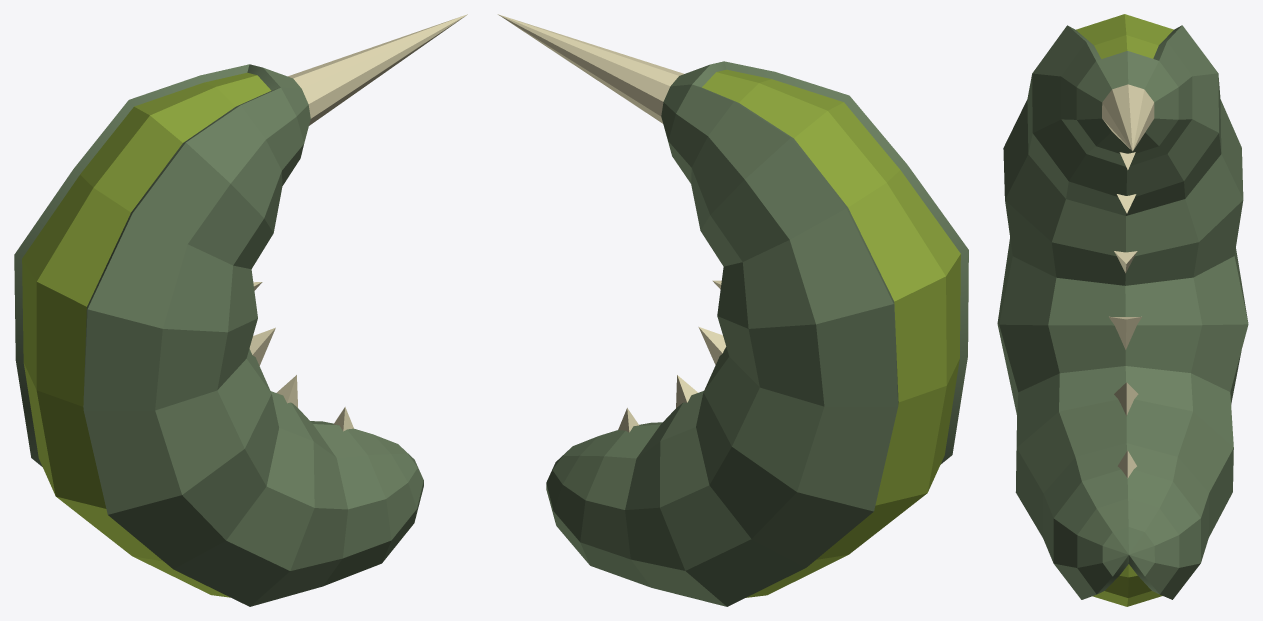
The model's file is LarvaeAbdomen.fbx.
The picture shows the model from 3 angles, left to right: view 1: azimuth 30°, elevation 25°; view 2: azimuth 150°, elevation 25°; view 3: azimuth 270°, elevation 25°; orthographic projection.
Parts seen in each view (by area): view 1: pCone55; view 2: pCone55; view 3: pCone55.
Part boxes in pixels (<box>): pCone55: <box>14,14,467,606</box>; pCone55: <box>497,14,968,606</box>; pCone55: <box>997,14,1248,606</box>.
Size of the model in its own units: 11.67 by 13.15 by 5.79.
